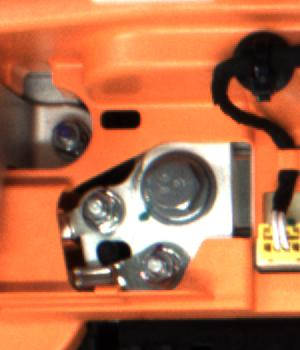nut_b: (138, 149, 215, 219)
